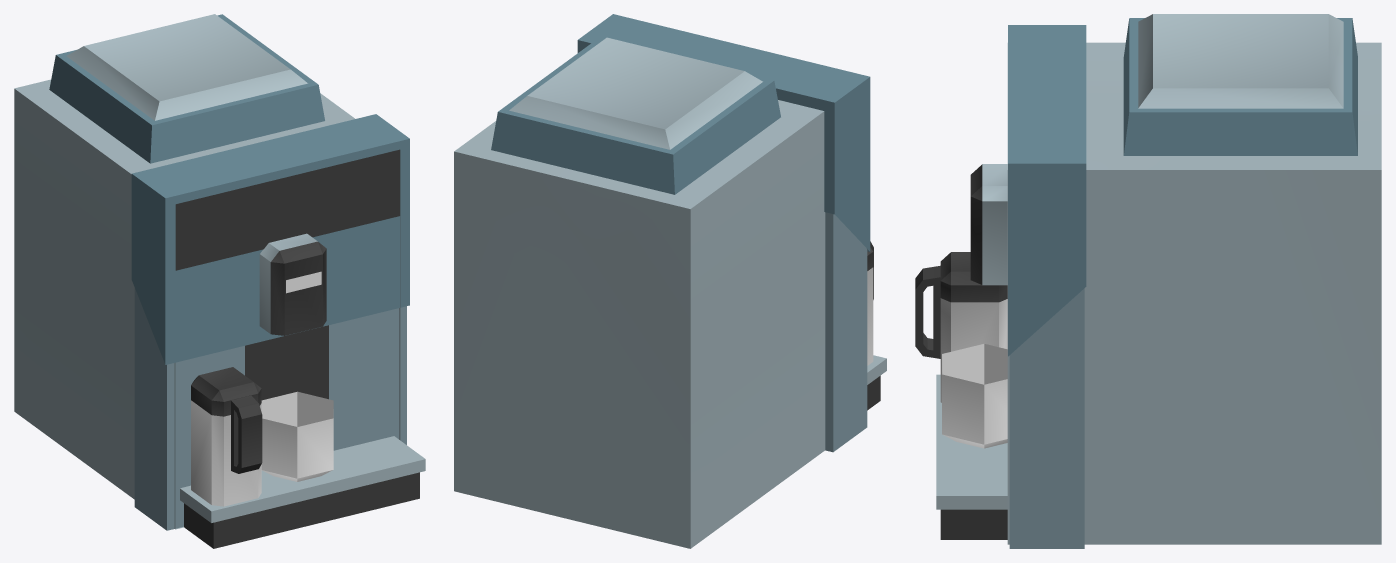
The model's file is electronics_005.glb.
The picture shows the model from 3 angles, left to right: view 1: azimuth 30°, elevation 25°; view 2: azimuth 150°, elevation 25°; view 3: azimuth 270°, elevation 25°; orthographic projection. The views are drawn at different scales.
Visible parts, largest first — view 1: electronics_005; view 2: electronics_005; view 3: electronics_005.
Part boxes in pixels (x1,y1,x2,y2): electronics_005: [14, 14, 425, 548]; electronics_005: [454, 14, 886, 548]; electronics_005: [915, 14, 1381, 548].
Size of the model in its own units: 0.1644 by 0.2386 by 0.2341.
1 material, 1 textured.
